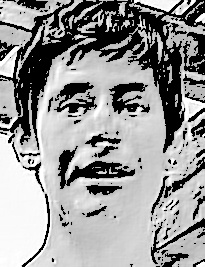nose_M_C: (84, 107, 123, 149)
